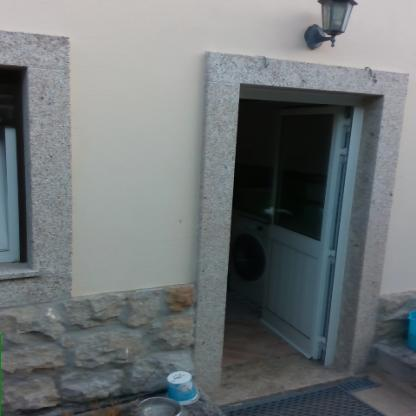semi: (203, 70, 398, 390)
